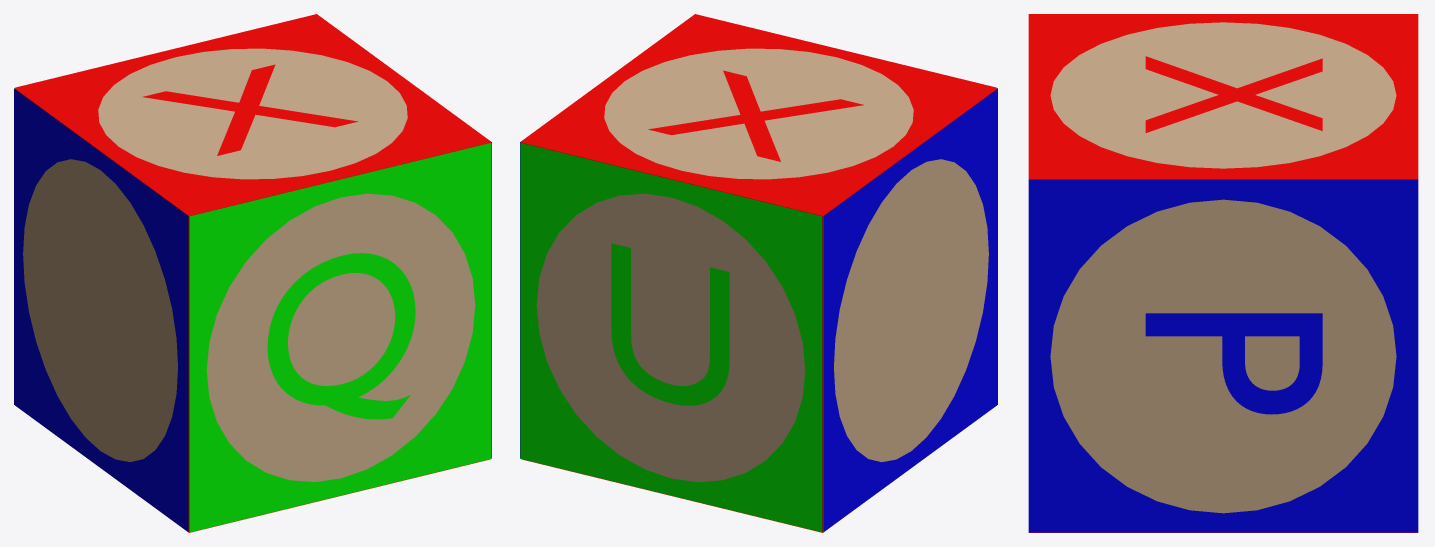
The picture shows the model from 3 angles, left to right: view 1: azimuth 30°, elevation 25°; view 2: azimuth 150°, elevation 25°; view 3: azimuth 270°, elevation 25°; orthographic projection. The views are drawn at different scales.
Visible parts, largest first — view 1: cube; view 2: cube; view 3: cube.
Part boxes in pixels (x1,y1,x2,y2): cube: (14, 14, 491, 532); cube: (520, 14, 997, 532); cube: (1028, 14, 1418, 532).
Size of the model in its own units: 0.0455 by 0.0456 by 0.0456.
